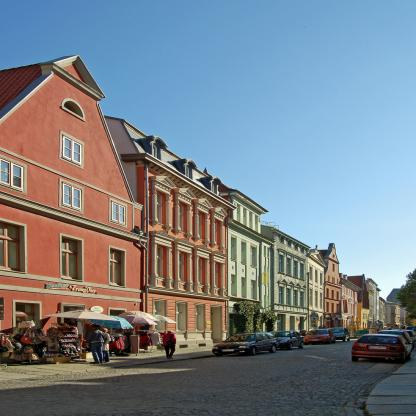Car: (350, 336, 416, 367)
